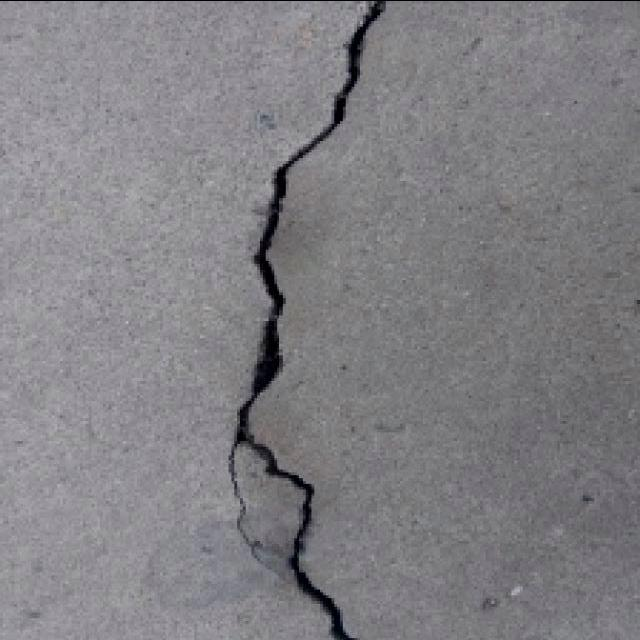SurfaceCrack: (216, 0, 408, 640)
